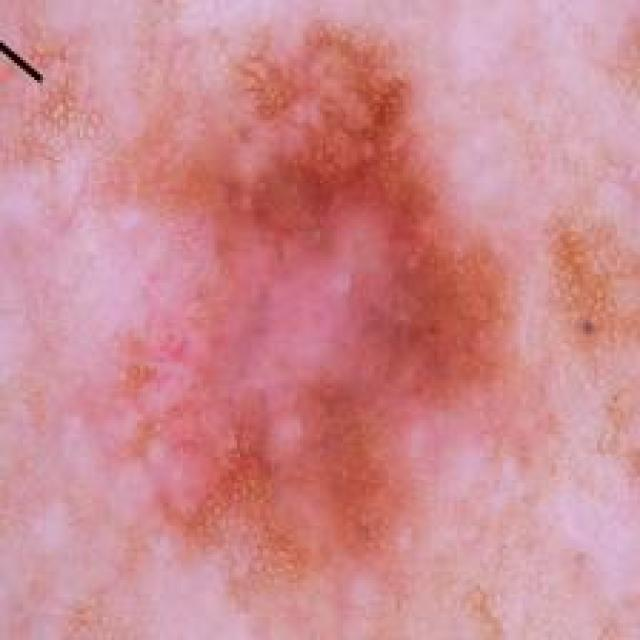Cancer: (112, 19, 518, 601)
